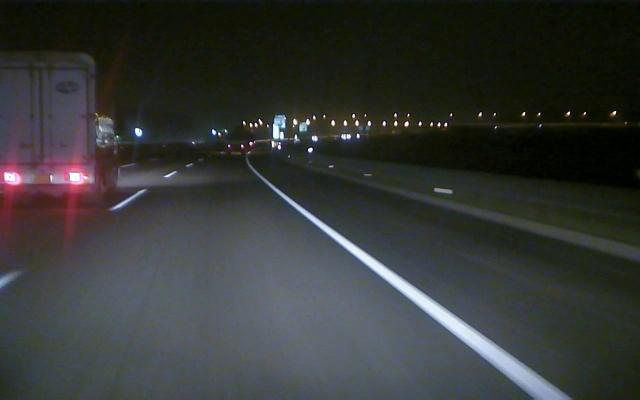lane: (251, 169, 571, 397), (0, 169, 180, 288)
